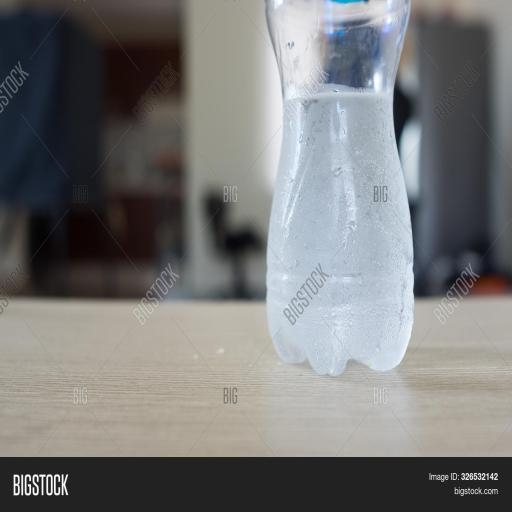bottle: (258, 0, 422, 378)
